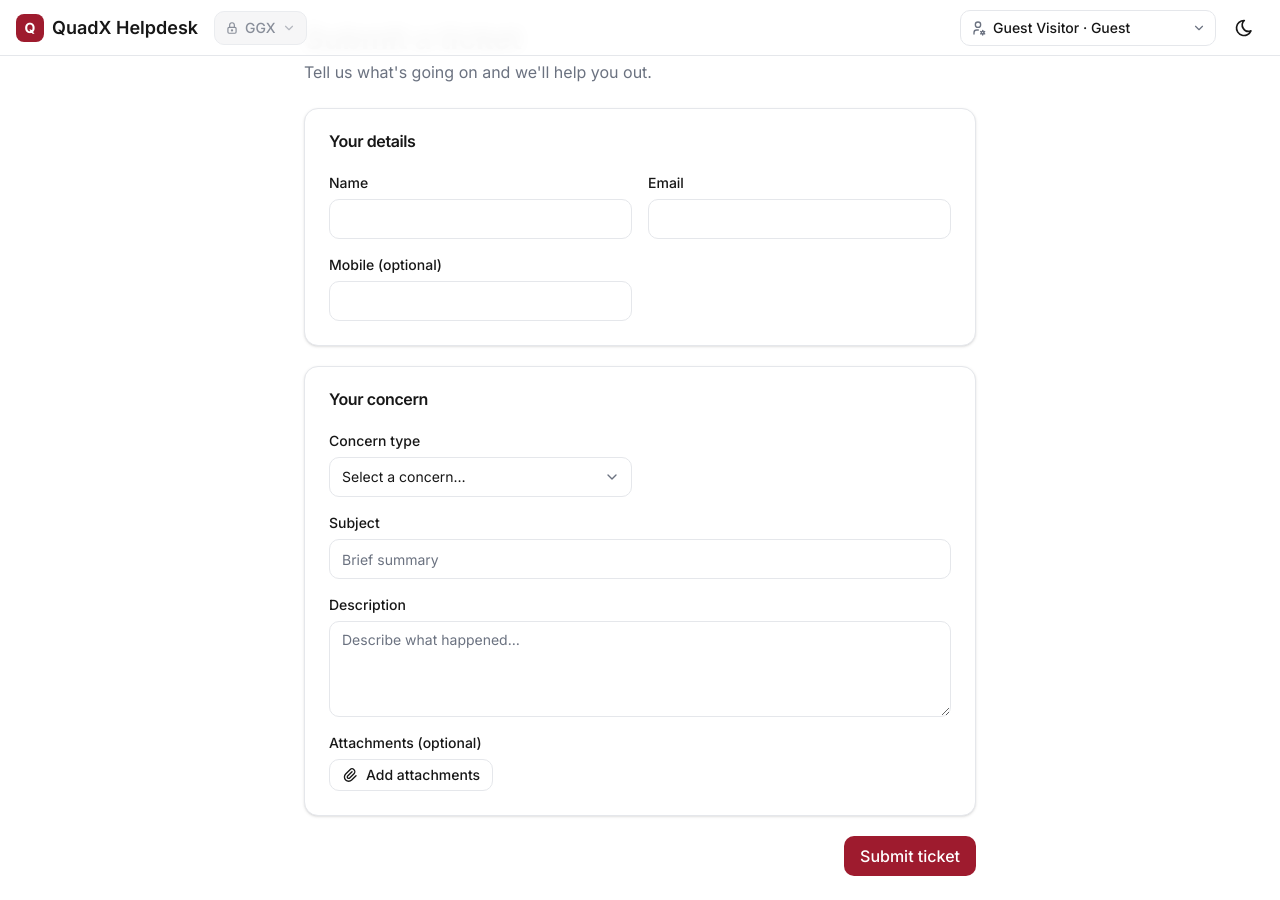
Test: ticket submission › blocks submission when required fields are missing
(page scrolled)
Click the button "Submit ticket" at (910, 856), box [844,836,976,876]
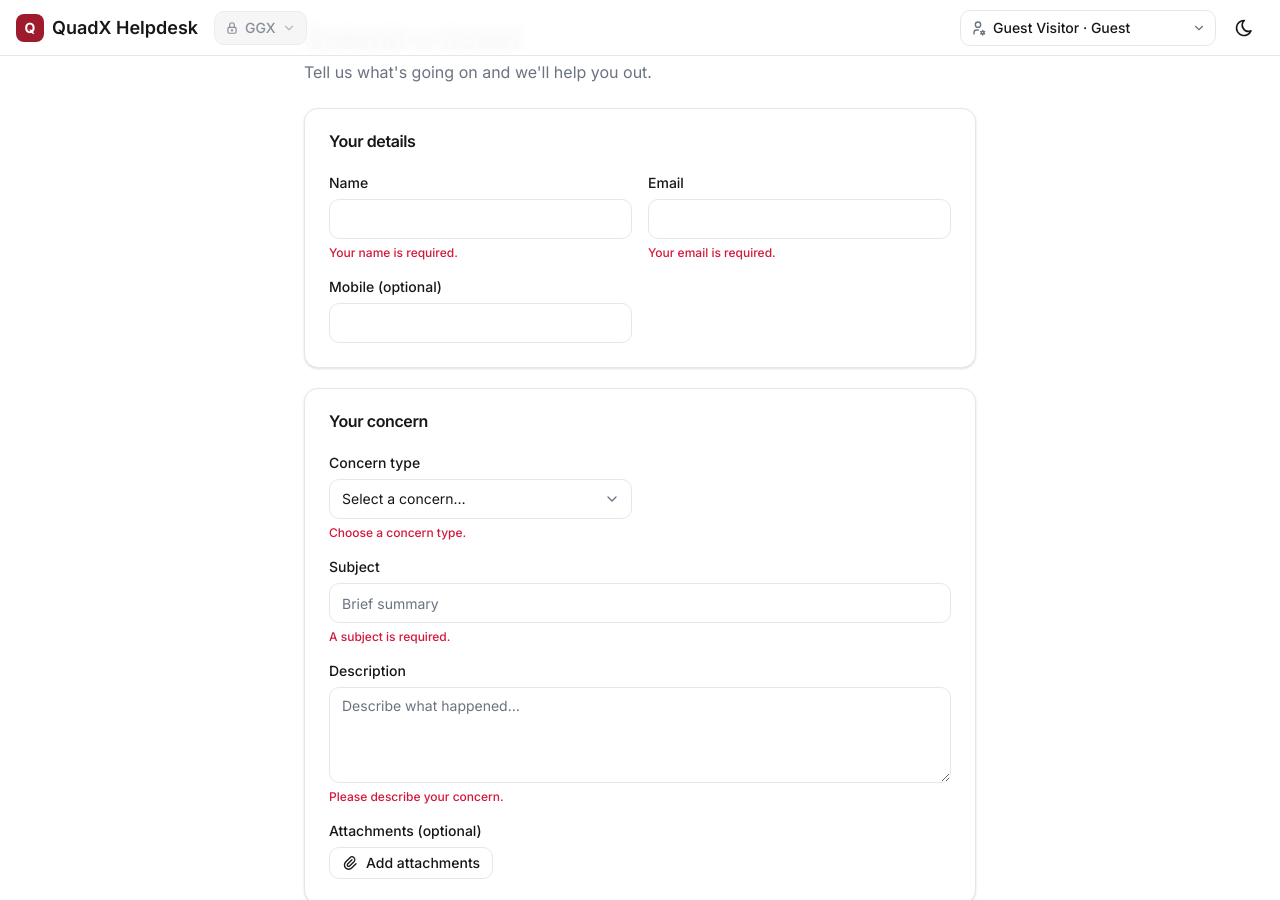
Expected: the text "Your name is required." is shown, [329,245,458,260]
